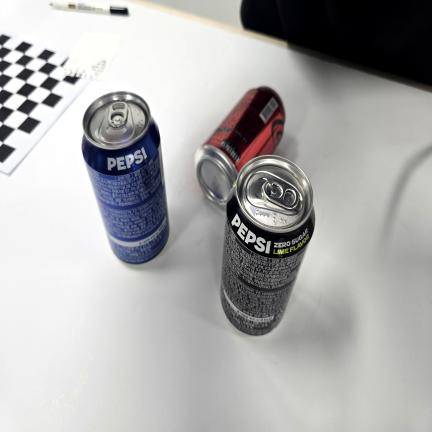can_coke_zero: (195, 87, 285, 206)
can_pepsi: (82, 91, 169, 264)
can_pepsi_zero: (221, 156, 315, 334)
